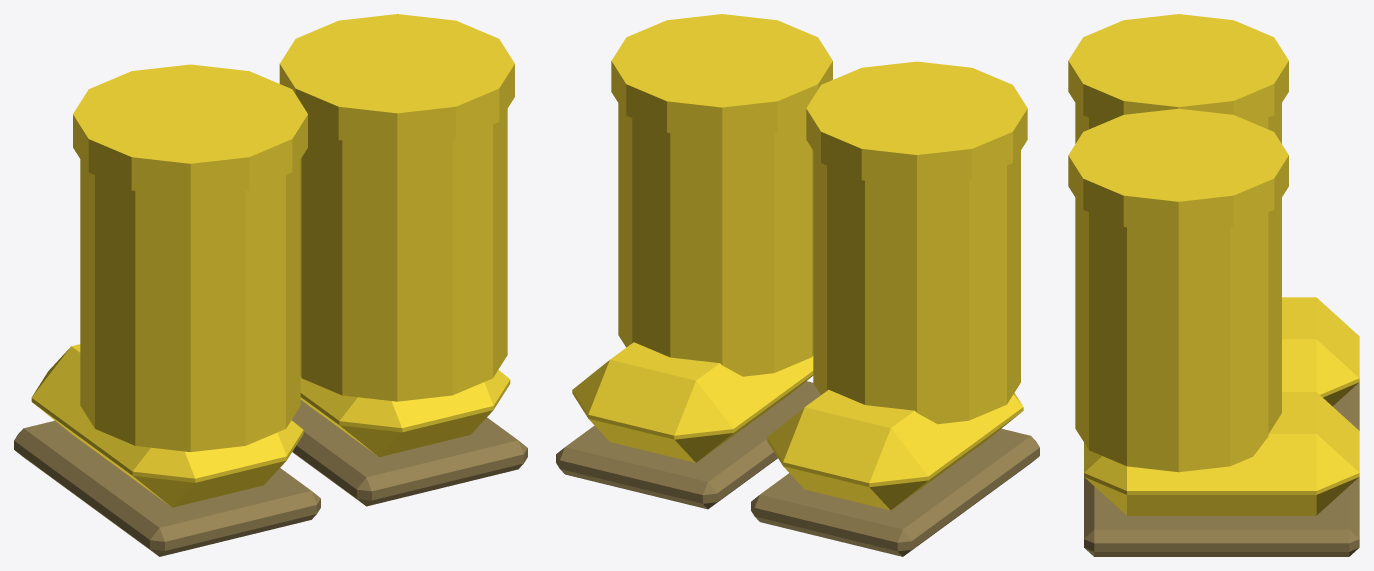
The model's file is shoes_rubber_boots.glb.
3 views of the same model, side by side, from view 1: azimuth 30°, elevation 25°; view 2: azimuth 150°, elevation 25°; view 3: azimuth 270°, elevation 25° (orthographic). The views are drawn at different scales.
Visible parts, largest first — view 1: LegL, LegR; view 2: LegL, LegR; view 3: LegR, LegL.
Part boxes in pixels (x1=…): LegL: x1=14, y1=64, x2=320, y2=556; LegR: x1=279, y1=14, x2=527, y2=506; LegL: x1=751, y1=61, x2=1039, y2=556; LegR: x1=556, y1=14, x2=832, y2=509; LegR: x1=1068, y1=108, x2=1359, y2=556; LegL: x1=1068, y1=14, x2=1359, y2=430.
Size of the model in its own units: 0.516 by 0.47 by 0.338.
